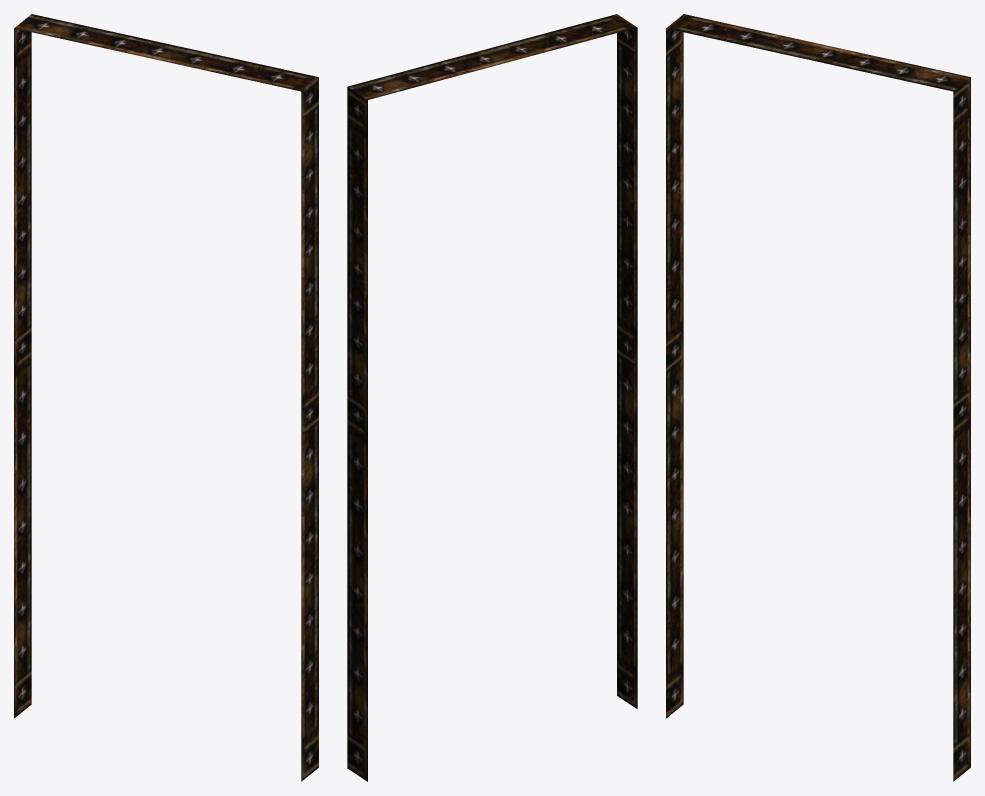
The model's file is OVERHILL_A_01_LINE177.fbx.
3 views of the same model, side by side, from view 1: azimuth 90°, elevation 25°; view 2: azimuth 150°, elevation 25°; view 3: azimuth 270°, elevation 25° (orthographic).
Parts seen in each view (by area): view 1: OVERHILL_A_01_LINE177; view 2: OVERHILL_A_01_LINE177; view 3: OVERHILL_A_01_LINE177.
Part boxes in pixels (bbox=[...]): OVERHILL_A_01_LINE177: bbox=[14, 14, 318, 781]; OVERHILL_A_01_LINE177: bbox=[347, 14, 637, 781]; OVERHILL_A_01_LINE177: bbox=[666, 14, 970, 781].
Size of the model in its own units: 9831 by 40800 by 16331.
Materials: 1 (1 with a texture image).
